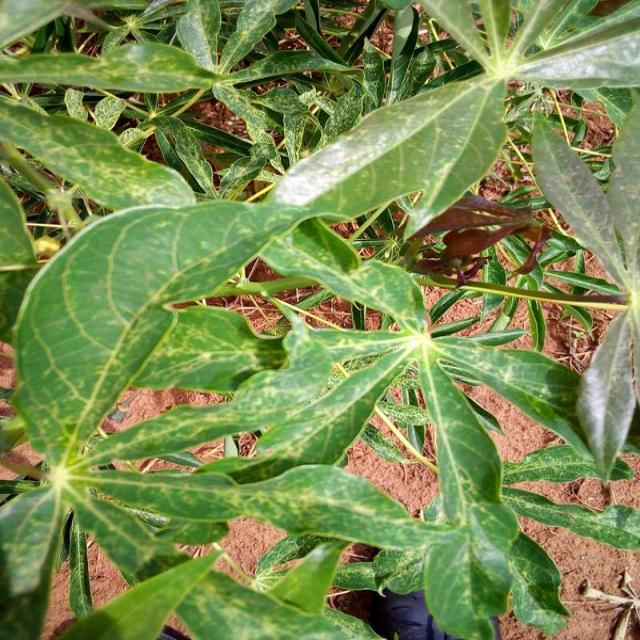cassava leaf: (4, 1, 638, 637), (12, 70, 510, 470)
